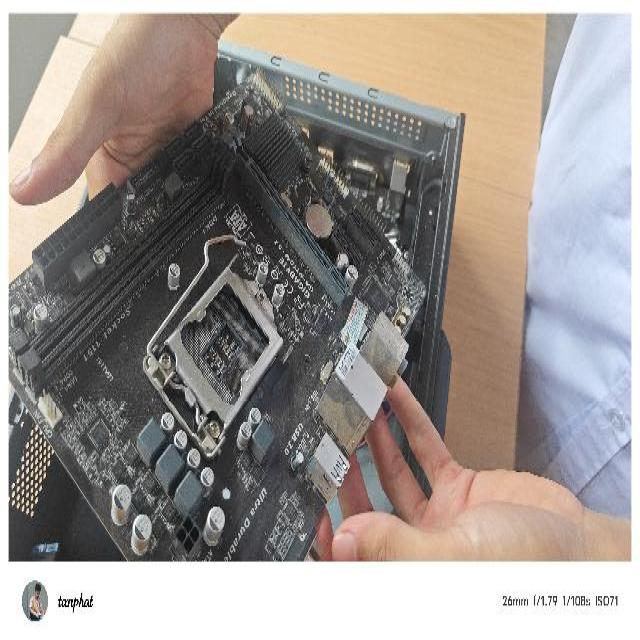Mainboard: (11, 66, 427, 561)
